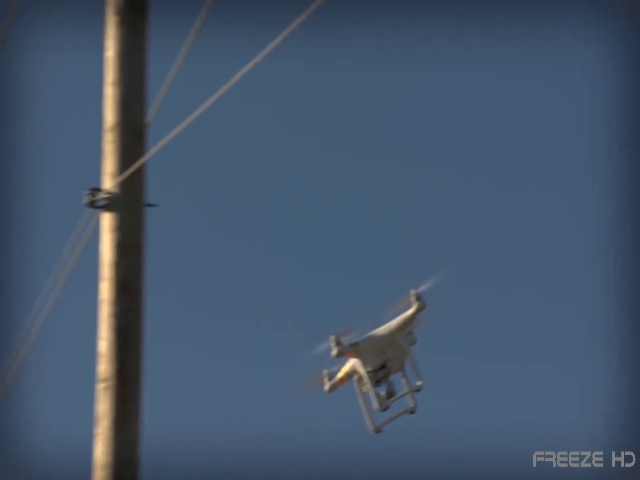drone: (304, 265, 461, 438)
